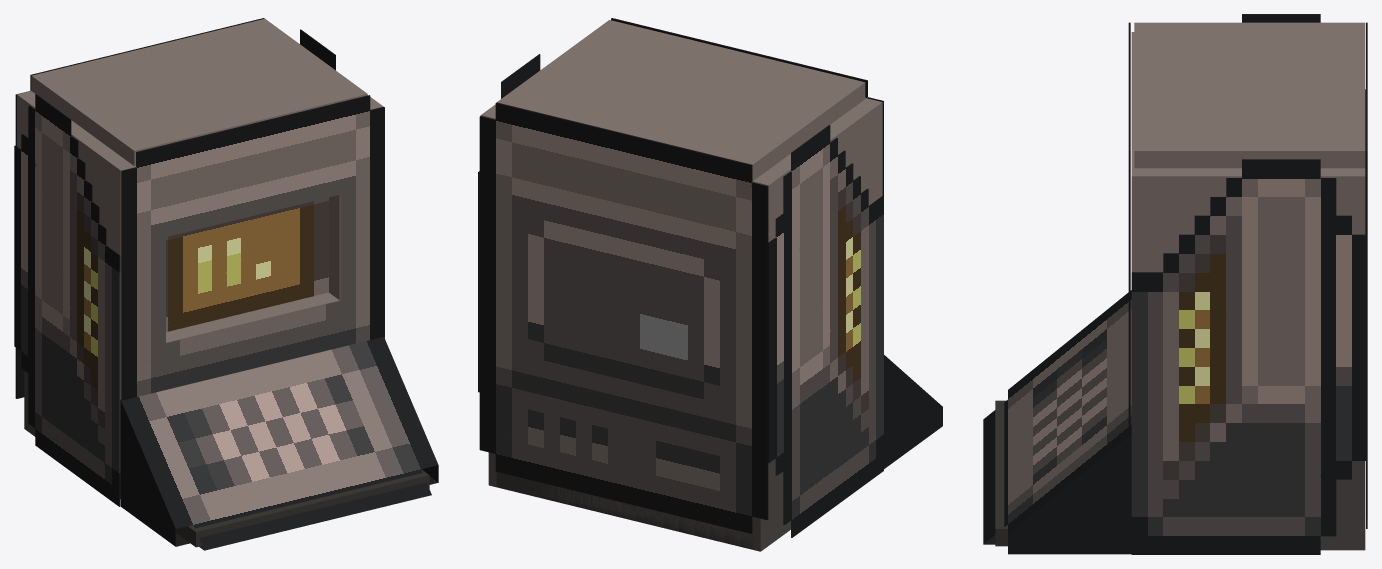
File: CMU3DIdTerminalWest.glb
3 renders of one model, left to right at view 1: azimuth 30°, elevation 25°; view 2: azimuth 150°, elevation 25°; view 3: azimuth 270°, elevation 25°, orthographic. The views are drawn at different scales.
Parts seen in each view (by area): view 1: original front bezel, source keyboard on sloping deck, original left monitor profile, stepped crown, recessed display glass, upper monitor bezel, keyboard lower foot, lower monitor bezel, right monitor bezel, original rear service cover, original right monitor profile; view 2: original rear service cover, original left monitor profile, stepped crown, rear base and hinge, upper monitor bezel, source keyboard on sloping deck, keyboard lower foot, original right monitor profile, original front bezel; view 3: original right monitor profile, stepped crown, source keyboard on sloping deck, upper monitor bezel, rear base and hinge, keyboard lower foot, original front bezel, original left monitor profile, monitor rear casting, original rear service cover.
Part boxes in pixels (bbox=[...]): original front bezel: bbox=[121, 95, 384, 400]; source keyboard on sloping deck: bbox=[120, 337, 438, 550]; original left monitor profile: bbox=[14, 94, 120, 506]; stepped crown: bbox=[31, 18, 367, 165]; recessed display glass: bbox=[166, 197, 328, 331]; upper monitor bezel: bbox=[17, 93, 383, 246]; keyboard lower foot: bbox=[175, 469, 429, 547]; lower monitor bezel: bbox=[166, 292, 339, 343]; right monitor bezel: bbox=[329, 195, 340, 300]; original rear service cover: bbox=[15, 18, 264, 398]; original right monitor profile: bbox=[300, 29, 384, 338]; original rear service cover: bbox=[479, 102, 768, 533]; original left monitor profile: bbox=[768, 125, 883, 537]; stepped crown: bbox=[497, 20, 865, 181]; rear base and hinge: bbox=[488, 452, 790, 551]; upper monitor bezel: bbox=[480, 98, 882, 242]; source keyboard on sloping deck: bbox=[884, 355, 942, 468]; keyboard lower foot: bbox=[496, 472, 752, 549]; original right monitor profile: bbox=[478, 54, 540, 392]; original front bezel: bbox=[611, 18, 883, 195]; original right monitor profile: bbox=[1131, 159, 1367, 554]; stepped crown: bbox=[1134, 22, 1365, 168]; source keyboard on sloping deck: bbox=[983, 290, 1131, 554]; upper monitor bezel: bbox=[1131, 32, 1365, 261]; rear base and hinge: bbox=[1320, 461, 1365, 550]; keyboard lower foot: bbox=[995, 400, 1007, 546]; original front bezel: bbox=[1128, 22, 1130, 433]; original left monitor profile: bbox=[1242, 14, 1365, 234]; monitor rear casting: bbox=[1174, 168, 1365, 172]; original rear service cover: bbox=[1366, 22, 1367, 528].
Size of what is drawn, in the model's own units: 0.5685 by 0.7188 by 0.634.
8 materials, 5 textured.
